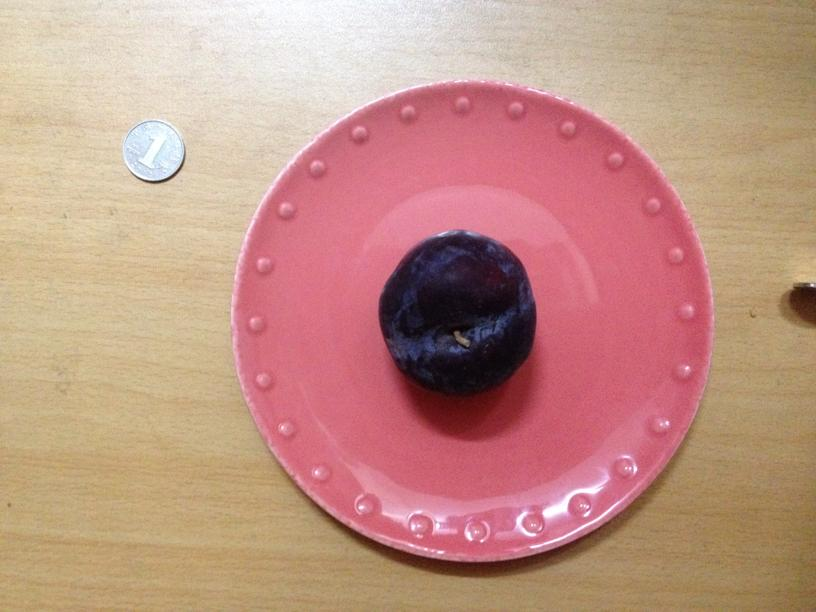coin: (121, 119, 185, 184)
plum: (369, 225, 539, 392)
